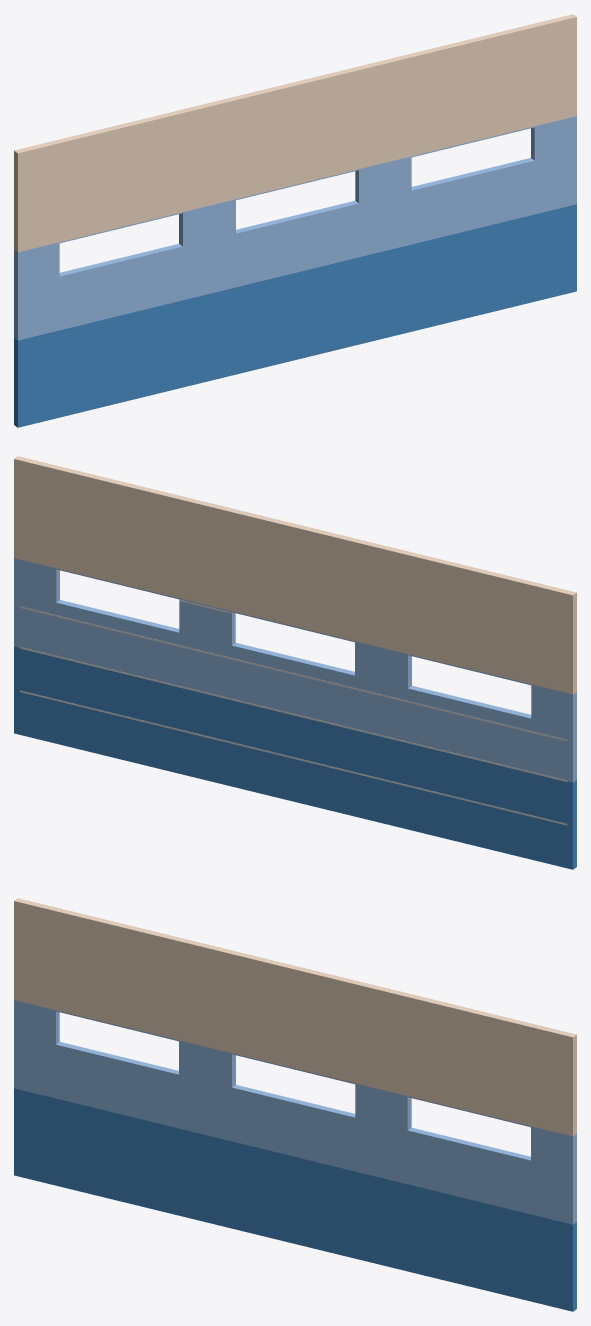
File: wall1.fbx
3 views of the same model, one above another, from view 1: azimuth 30°, elevation 25°; view 2: azimuth 150°, elevation 25°; view 3: azimuth 330°, elevation 25° (orthographic).
Parts seen in each view (by area): view 1: gymnasium.111, gymnasium.110, gymnasium.112; view 2: gymnasium.111, gymnasium.110, gymnasium.112, gymnasium.145, gymnasium.143, gymnasium.144; view 3: gymnasium.111, gymnasium.110, gymnasium.112.
Boxes of the visible parts, x1,y1,x2,y2 form: gymnasium.111: (14, 14, 576, 252); gymnasium.110: (14, 204, 576, 427); gymnasium.112: (14, 116, 576, 340); gymnasium.111: (14, 456, 576, 694); gymnasium.110: (14, 646, 576, 869); gymnasium.112: (14, 558, 576, 782); gymnasium.145: (20, 690, 567, 825); gymnasium.143: (20, 606, 567, 741); gymnasium.144: (20, 647, 567, 781); gymnasium.111: (14, 898, 576, 1136); gymnasium.110: (14, 1088, 576, 1311); gymnasium.112: (14, 1000, 576, 1224).
Size of the model in its own units: 2488 by 1167 by 30.9.
